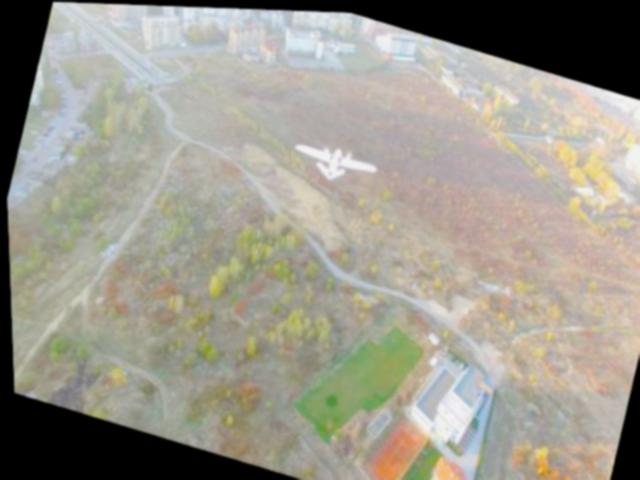uav: (282, 120, 387, 198)
